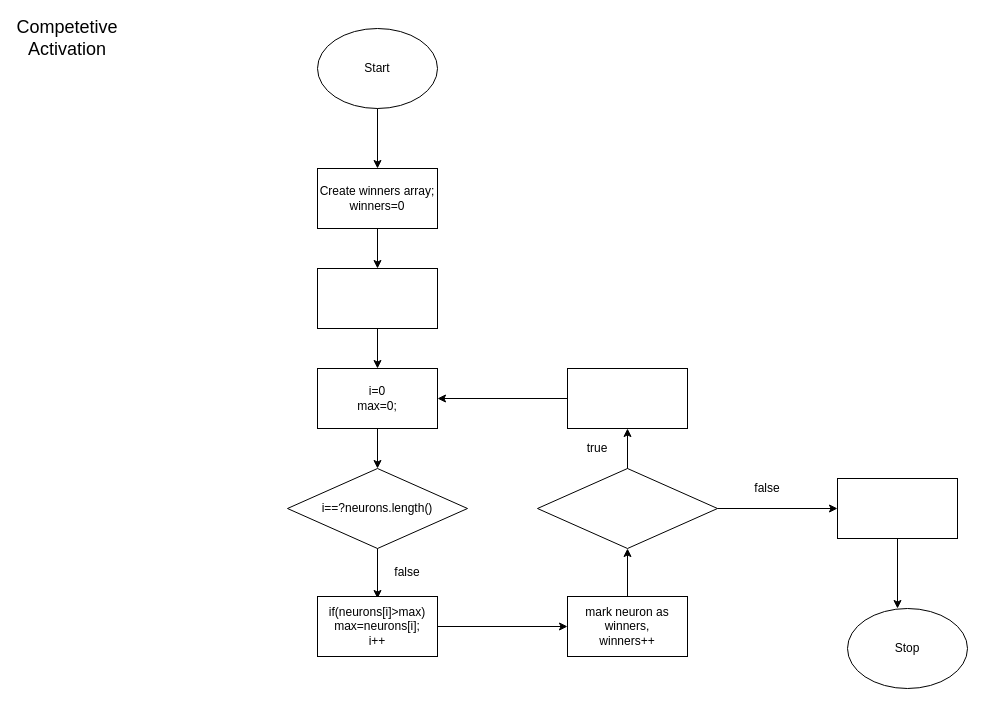
The diagram is 985 pixels wide and 706 high, and some of its shapes have lost their labels. Here are the shapes that lost their labels. From the top down, the box of each, then its label:
(316, 268, 438, 328): Get number of max winners
(566, 368, 688, 428): delete winner from neurons table
(536, 468, 718, 548): if(winners<maxwinners)
(836, 478, 958, 538): set value of winners to 1, non winners to 0
